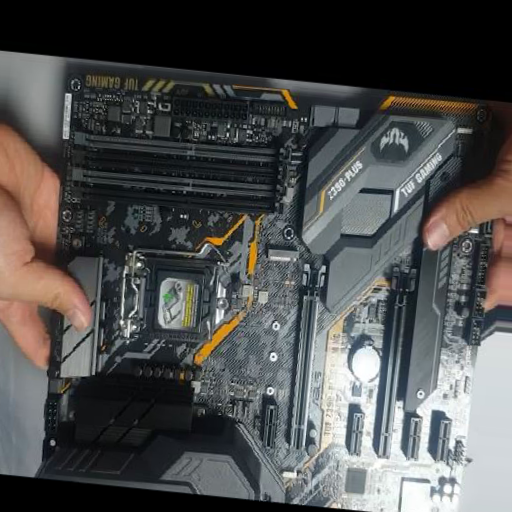CPU: (118, 254, 228, 343)
GPU: (374, 267, 420, 460), (285, 262, 328, 449)
MOTHERBOARD: (42, 78, 492, 512)
RAM: (70, 131, 292, 217)
SSD: (267, 248, 301, 266)
